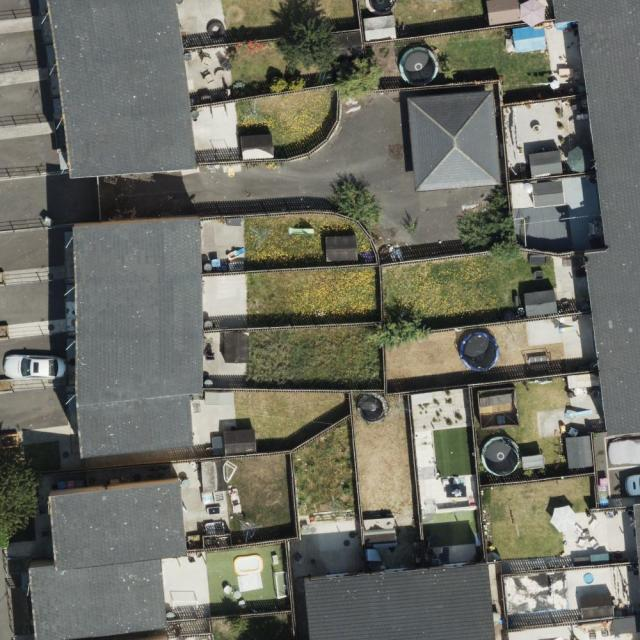roof: (552, 0, 640, 439), (73, 218, 204, 456), (45, 0, 202, 178), (29, 481, 185, 640), (305, 560, 495, 640), (412, 91, 500, 191)
